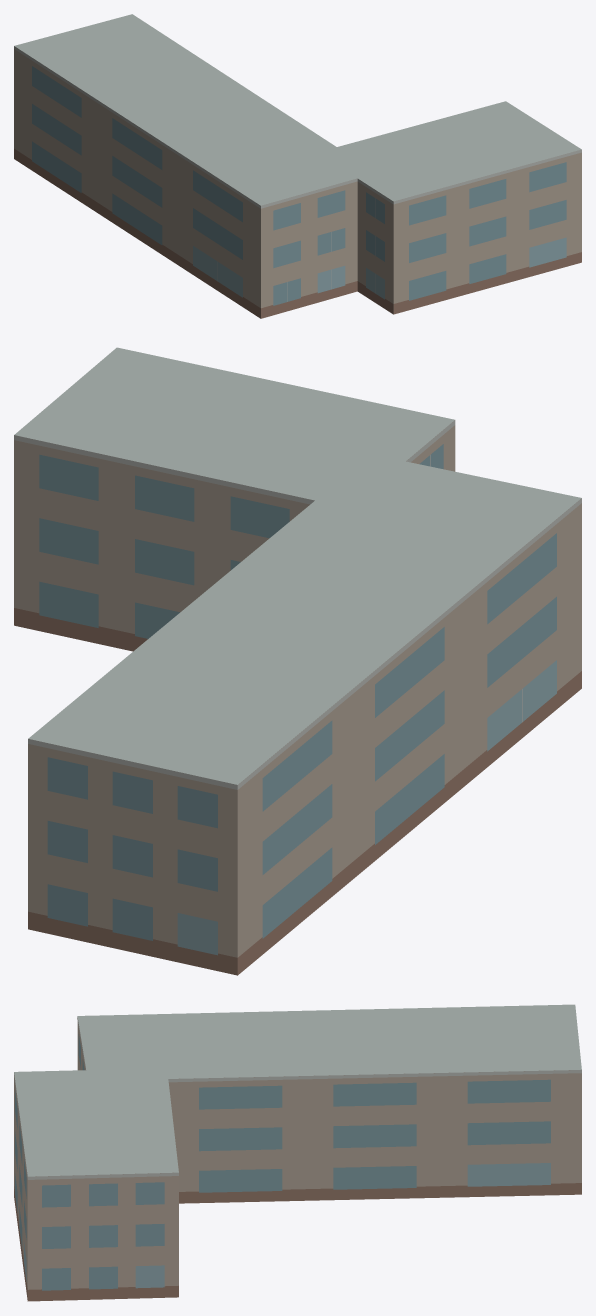
Rendered from survey-upis-32726333.glb.
3 renders of one model, top to bottom at view 1: azimuth 30°, elevation 25°; view 2: azimuth 150°, elevation 25°; view 3: azimuth 270°, elevation 25°, orthographic. The views are drawn at different scales.
Parts seen in each view (by area): view 1: survey-upis-32726333.tmp; view 2: survey-upis-32726333.tmp; view 3: survey-upis-32726333.tmp.
Boxes of the visible parts, x1=… form: survey-upis-32726333.tmp: x1=14, y1=14, x2=581, y2=318; survey-upis-32726333.tmp: x1=14, y1=347, x2=581, y2=975; survey-upis-32726333.tmp: x1=14, y1=1004, x2=581, y2=1301.
Size of the model in its own units: 27.09 by 9.15 by 37.75.
